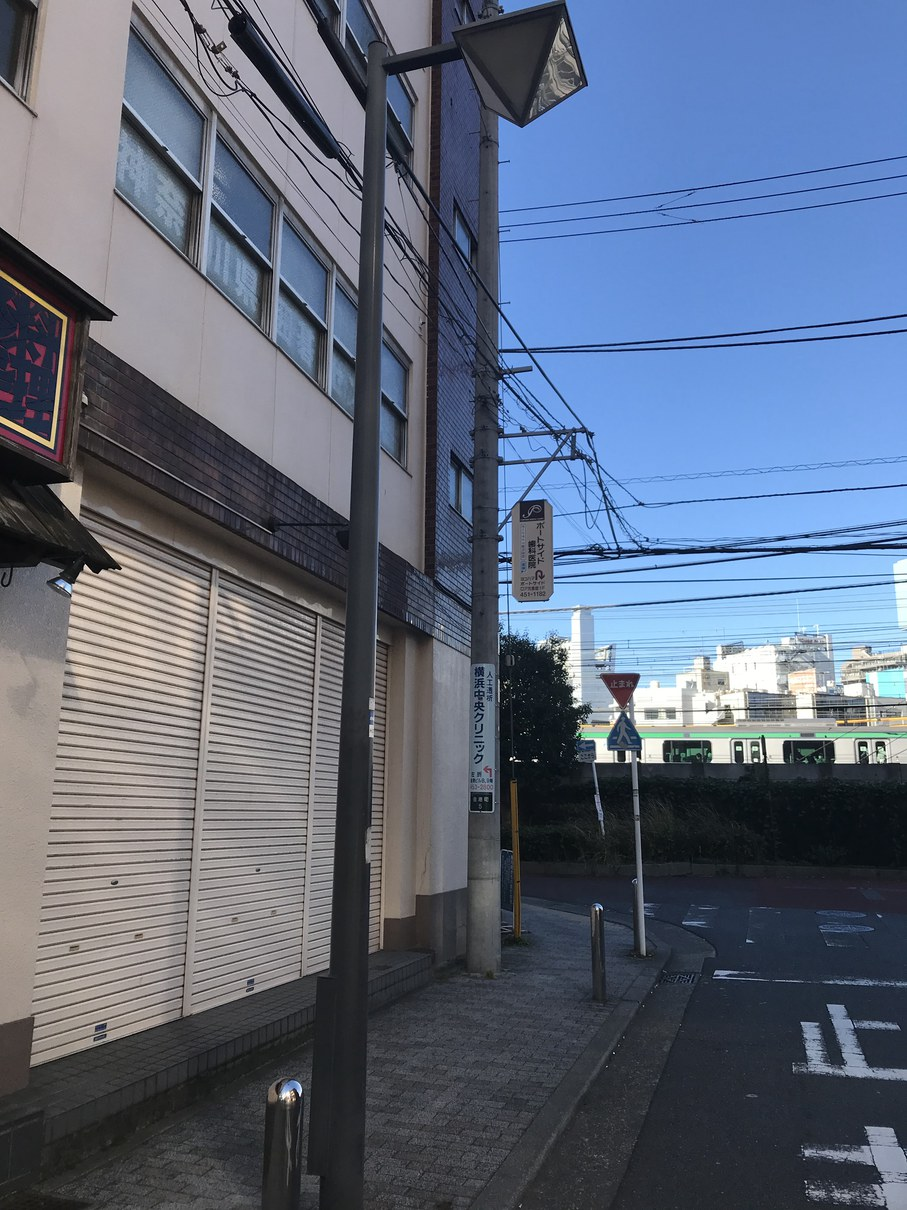stop_sign: (599, 671, 640, 709)
